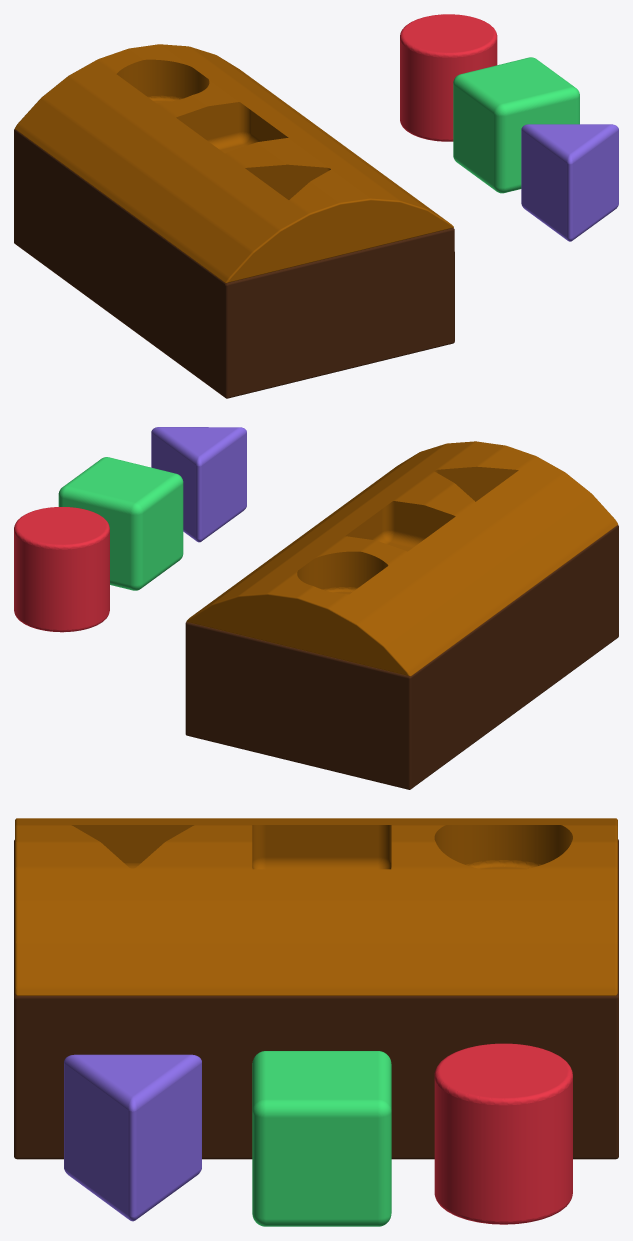
The model's file is TreasureChest.fbx.
3 renders of one model, top to bottom at view 1: azimuth 30°, elevation 25°; view 2: azimuth 150°, elevation 25°; view 3: azimuth 270°, elevation 25°, orthographic. The views are drawn at different scales.
Visible parts, largest first — view 1: Cylinder, Cube, Cube.001, Plane, Cylinder.001; view 2: Cylinder, Cube, Cylinder.001, Cube.001, Plane; view 3: Cylinder, Cube, Cube.001, Cylinder.001, Plane.
Part boxes in pixels (x1,y1,x2,y2): Cylinder: (14,44,453,283); Cube: (14,129,454,398); Cube.001: (453,57,579,193); Plane: (521,124,618,241); Cylinder.001: (400,14,497,141); Cylinder: (186,441,618,676); Cube: (185,525,618,789); Cylinder.001: (14,507,109,632); Cube.001: (58,457,183,590); Plane: (151,427,246,542); Cylinder: (15,818,617,995); Cube: (14,839,618,1159); Cube.001: (252,1051,391,1226); Cylinder.001: (434,1043,572,1224); Plane: (64,1054,201,1221).
Size of the model in its own units: 14.89 by 5.42 by 12.45.
